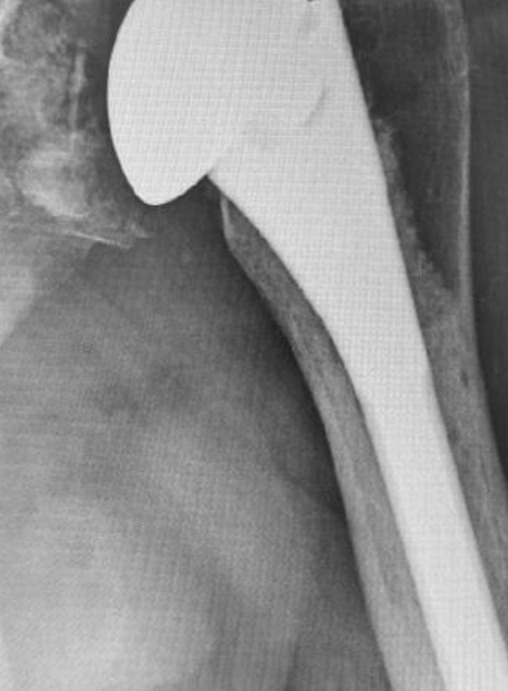Shoulder - Anotomical - Stryker: (89, 1, 398, 219)
